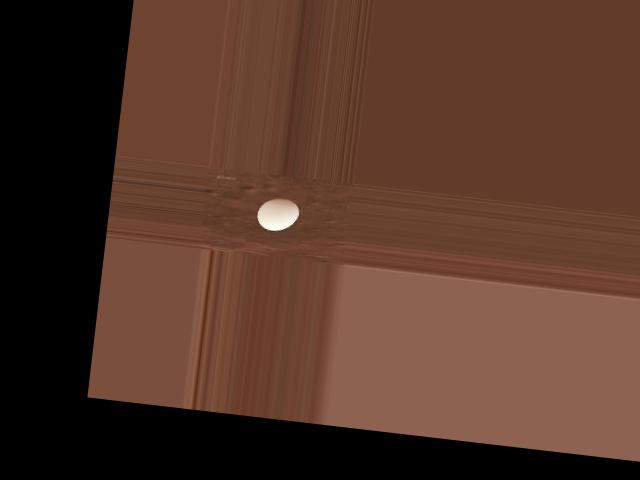egg: (256, 196, 301, 233)
